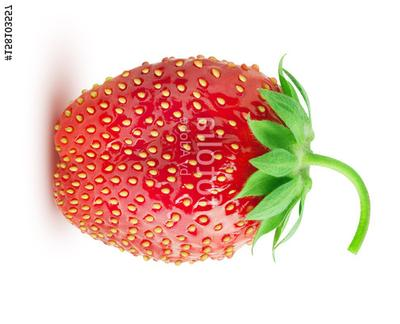strawberry: (0, 0, 400, 324)
